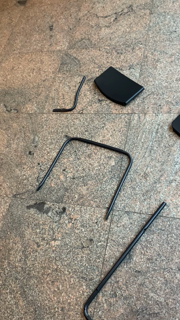Back: (92, 66, 145, 109)
L pipe: (52, 76, 89, 116)
Seat: (36, 136, 136, 223)
